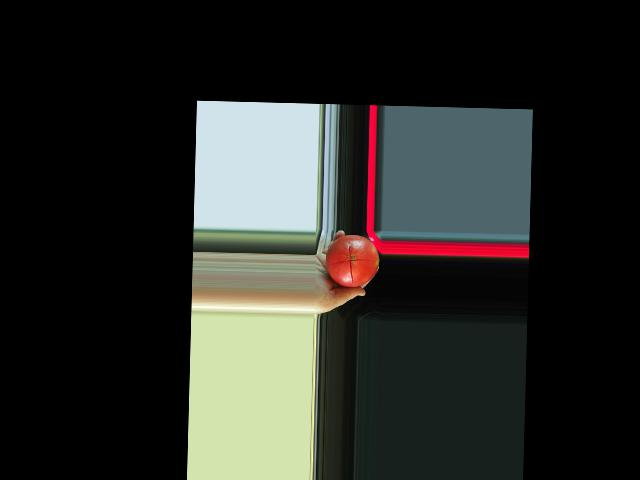tomato: (324, 233, 379, 287)
